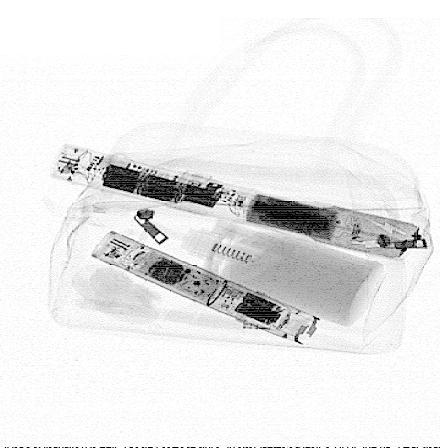Baton: (50, 143, 424, 264), (92, 231, 321, 346)
